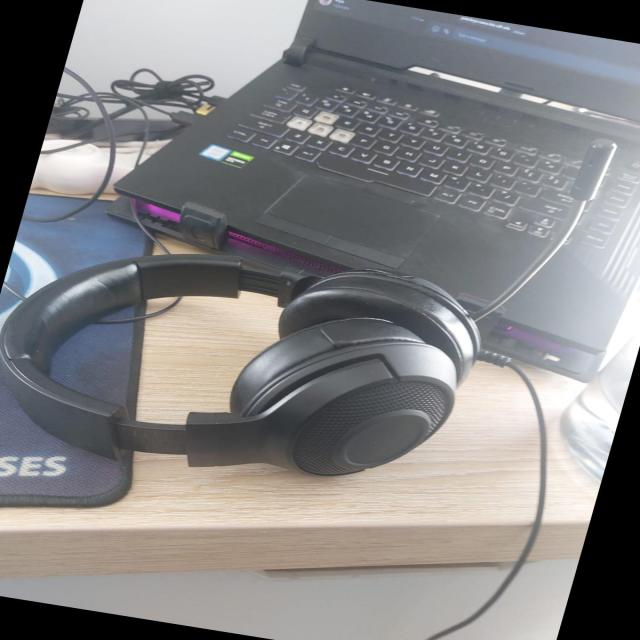earphone: (7, 253, 477, 476)
laptop_computer: (145, 0, 640, 250)
